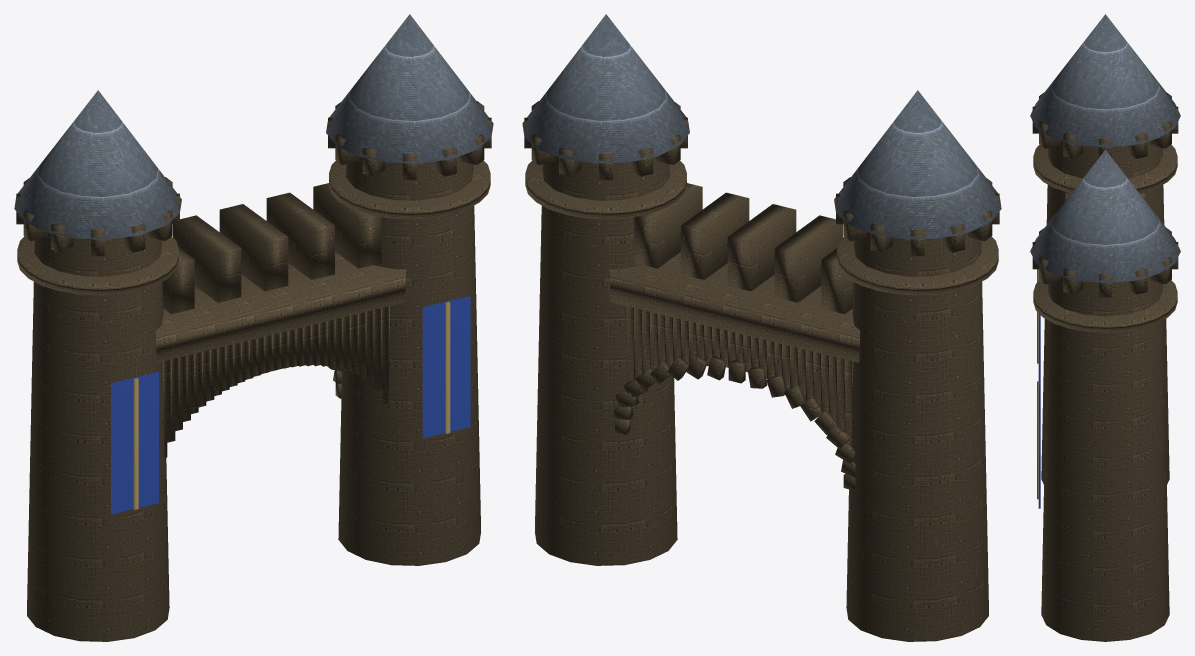
The model's file is gate.glb.
The picture shows the model from 3 angles, left to right: view 1: azimuth 30°, elevation 25°; view 2: azimuth 150°, elevation 25°; view 3: azimuth 270°, elevation 25°; orthographic projection. The views are drawn at different scales.
Parts seen in each view (by area): view 1: gate; view 2: gate; view 3: gate.
Boxes of the visible parts, left/top/right/bottom form: gate: left=14, top=14, right=493, bottom=641; gate: left=522, top=14, right=1001, bottom=641; gate: left=1030, top=14, right=1180, bottom=641.
Bounding box in the file's own units: 29.4 × 32 × 9.4.
4 materials, 3 textured.
